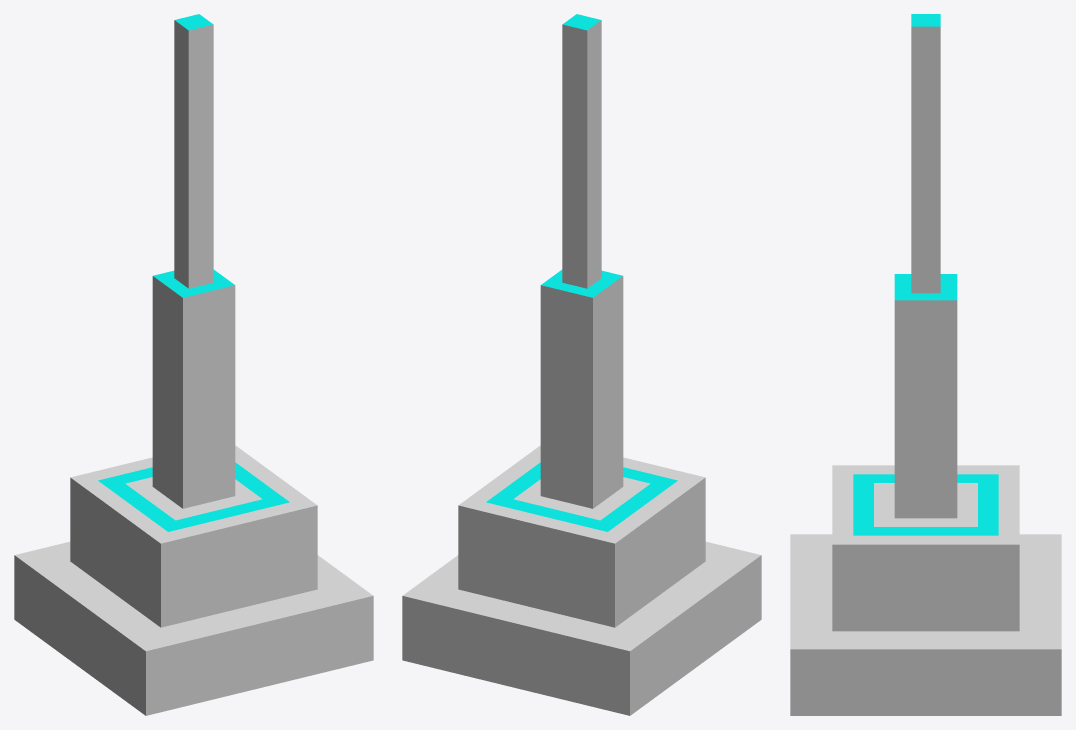
Rendered from BuildingS2.fbx.
The picture shows the model from 3 angles, left to right: view 1: azimuth 30°, elevation 25°; view 2: azimuth 150°, elevation 25°; view 3: azimuth 270°, elevation 25°; orthographic projection. The views are drawn at different scales.
Visible parts, largest first — view 1: S2; view 2: S2; view 3: S2.
Part boxes in pixels (x1,y1,x2,y2): S2: [14, 14, 373, 715]; S2: [402, 14, 761, 715]; S2: [790, 14, 1061, 715].
Size of the model in its own units: 334 by 868 by 334.
